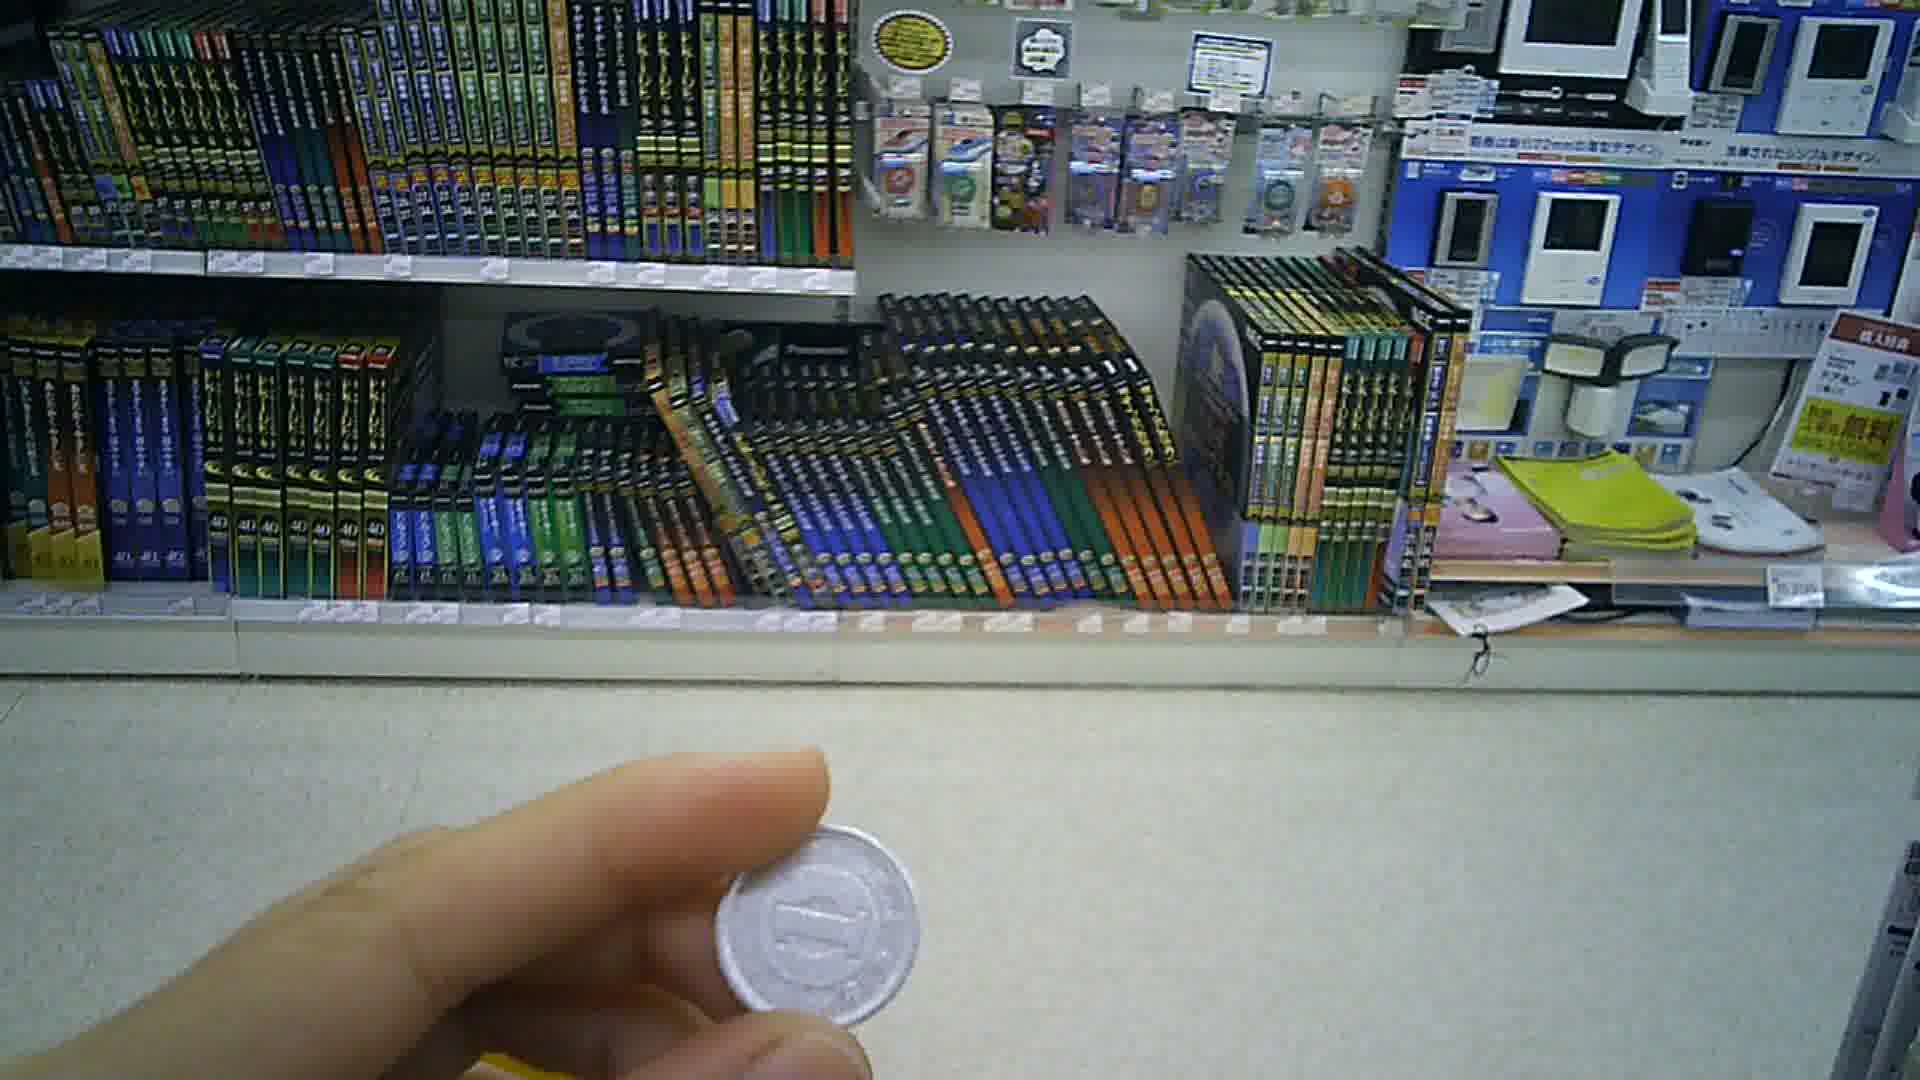1 Yen: (705, 806, 938, 1036)
